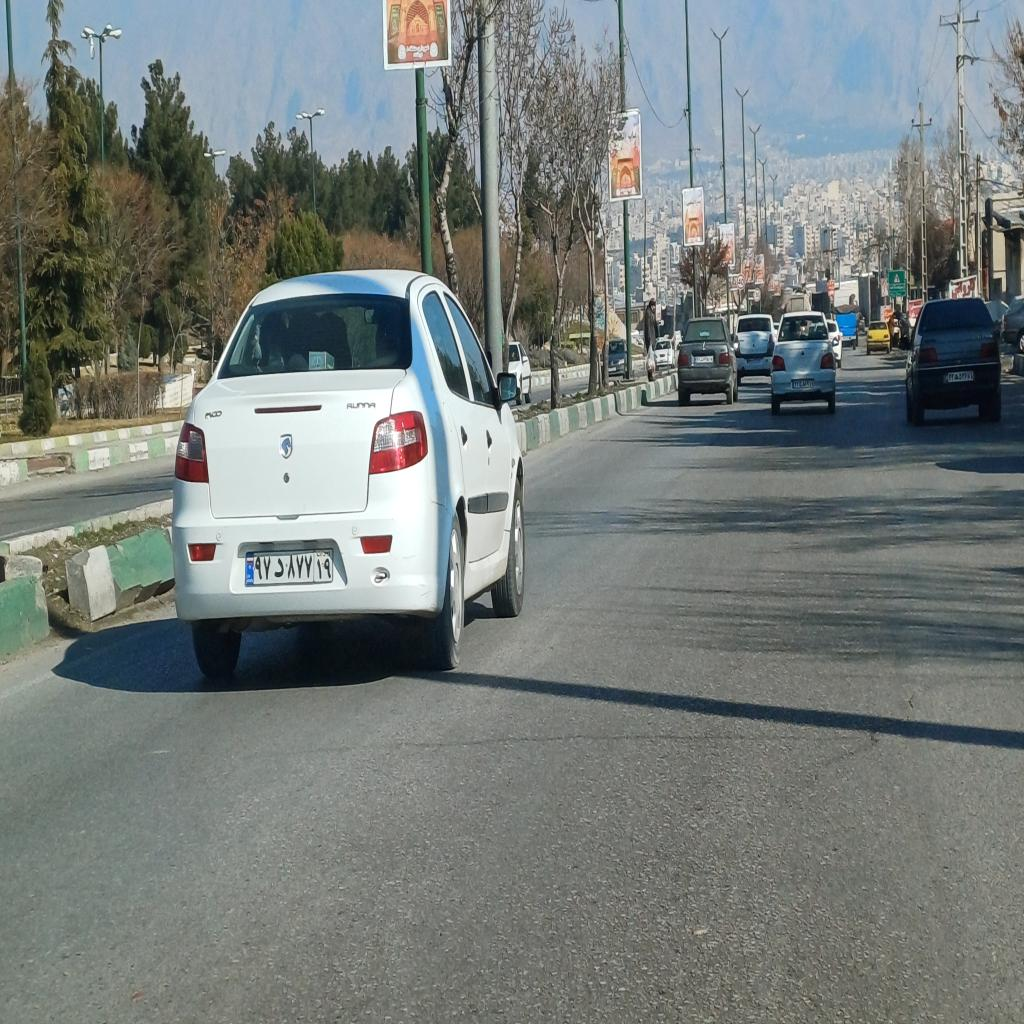Plates: (246, 548, 333, 585)
